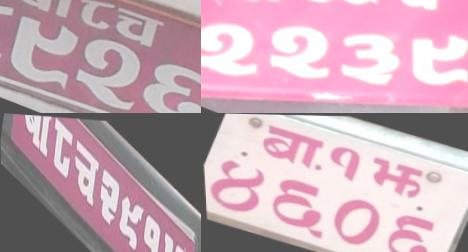0: (319, 188, 393, 252)
1: (316, 140, 370, 186), (139, 208, 163, 252)
2: (62, 26, 154, 113), (258, 12, 344, 95), (201, 4, 270, 93), (95, 162, 121, 229)
3: (328, 15, 412, 98)
4: (203, 153, 276, 219), (158, 226, 184, 252)
6: (253, 170, 345, 241), (128, 50, 201, 113), (366, 202, 448, 252)
8: (48, 116, 75, 181), (69, 0, 118, 33), (285, 0, 343, 13)
9: (0, 5, 86, 96), (393, 16, 468, 105), (115, 184, 143, 252), (327, 0, 392, 15)
ba: (250, 121, 328, 172), (6, 0, 82, 24), (18, 114, 53, 161), (208, 0, 293, 17)
cha: (105, 1, 167, 53), (68, 134, 100, 208)
jha: (357, 152, 435, 203)
pa: (382, 0, 461, 28)
